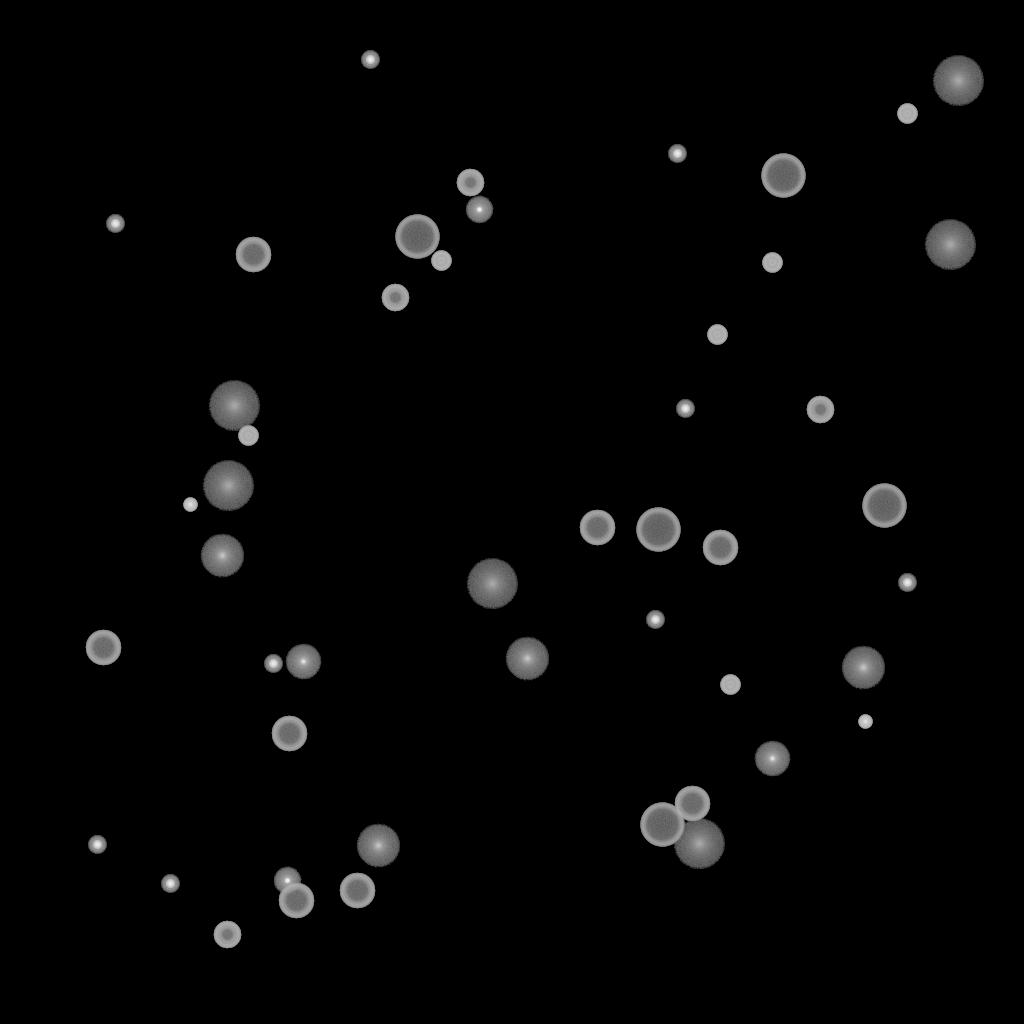depth:-10: (273, 867, 301, 895), (465, 196, 493, 224)
depth:-20: (88, 836, 106, 854), (361, 51, 379, 69), (646, 611, 664, 629), (264, 655, 282, 673), (106, 215, 124, 233), (898, 574, 916, 592), (668, 145, 686, 163), (676, 400, 694, 418), (161, 875, 179, 893)
depth:-30: (858, 715, 872, 729), (183, 498, 197, 512)
depth:-40: (238, 426, 258, 446), (707, 325, 727, 345), (720, 675, 740, 695), (762, 253, 782, 273), (897, 104, 917, 124), (431, 251, 451, 271)
depth:-50: (381, 284, 409, 312), (806, 396, 834, 424), (213, 921, 241, 949), (456, 169, 484, 197)
depth:-60: (85, 630, 121, 666), (235, 237, 271, 273), (579, 510, 615, 546), (271, 716, 307, 752), (278, 883, 314, 919), (674, 786, 710, 822), (702, 530, 738, 566), (339, 873, 375, 909)
depth:-70: (640, 803, 684, 847), (395, 215, 439, 259), (761, 154, 805, 198), (636, 508, 680, 552), (862, 484, 906, 528)
depth:0: (285, 644, 321, 680), (754, 741, 790, 777)
depth:10: (841, 646, 885, 690), (200, 534, 244, 578), (505, 637, 549, 681), (356, 824, 400, 868)
depth:20: (208, 381, 260, 431), (466, 559, 518, 609), (673, 819, 725, 869), (932, 56, 984, 106), (202, 461, 254, 511), (924, 220, 976, 270)
